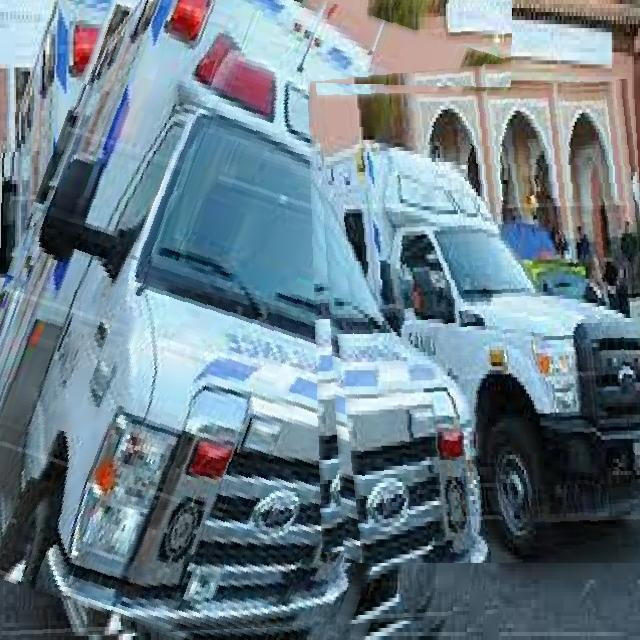ambulance: (0, 0, 513, 640), (316, 83, 640, 563)
